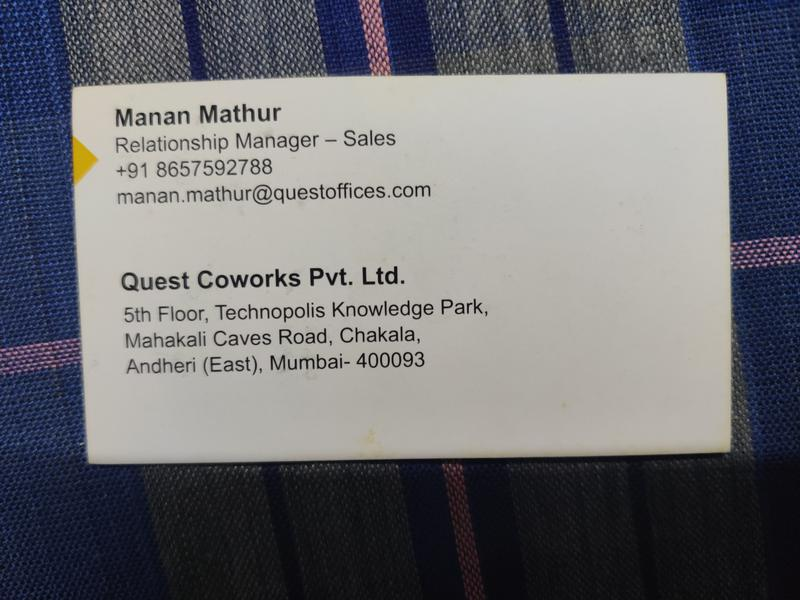card: (71, 72, 734, 463)
